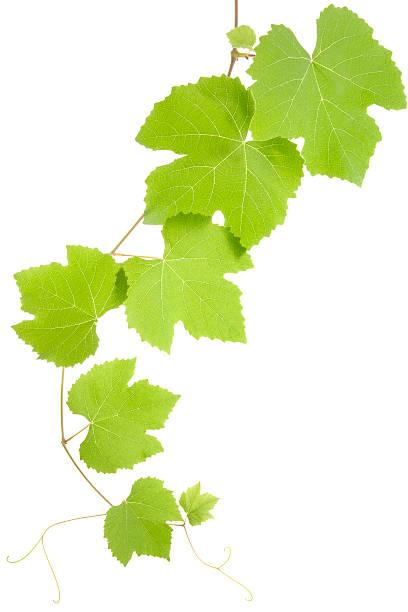grape leaf black rot: (131, 76, 312, 245), (249, 1, 405, 187), (122, 206, 258, 362), (46, 358, 185, 476), (2, 243, 127, 372), (105, 472, 183, 571), (176, 472, 231, 529)
